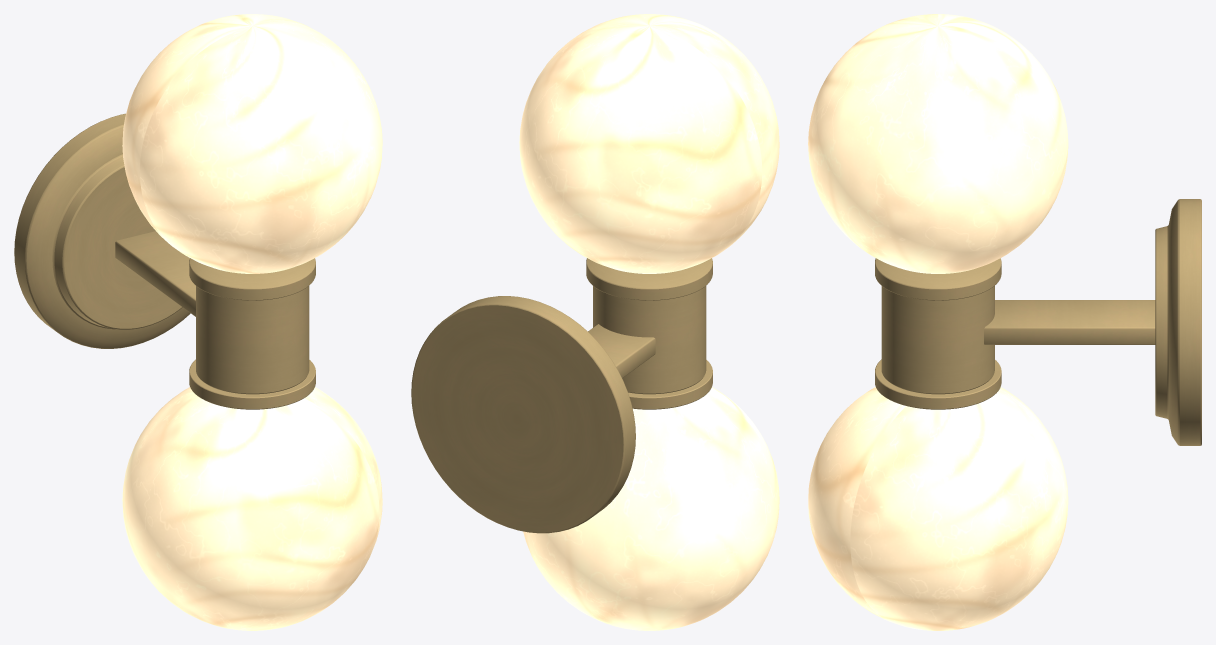
The model's file is marble-dual-globe-wall-sconce-polished-gold-nordic-light.glb.
The picture shows the model from 3 angles, left to right: view 1: azimuth 30°, elevation 25°; view 2: azimuth 150°, elevation 25°; view 3: azimuth 270°, elevation 25°; orthographic projection.
Visible parts, largest first — view 1: Globe_Top, Globe_Bottom, Backplate, Hub, Arm, HubRing_1, HubRing_-1; view 2: Globe_Top, Backplate, Globe_Bottom, Hub, HubRing_1, Arm, HubRing_-1; view 3: Globe_Top, Globe_Bottom, Backplate, Hub, Arm, HubRing_1, HubRing_-1.
Boxes of the visible parts, bbox=[...] form: Globe_Top: bbox=[122, 14, 382, 273]; Globe_Bottom: bbox=[122, 387, 382, 630]; Backplate: bbox=[14, 113, 190, 348]; Hub: bbox=[196, 286, 309, 394]; Arm: bbox=[115, 231, 195, 316]; HubRing_1: bbox=[189, 258, 315, 300]; HubRing_-1: bbox=[189, 359, 315, 409]; Globe_Top: bbox=[519, 14, 779, 273]; Backplate: bbox=[411, 296, 635, 533]; Globe_Bottom: bbox=[523, 387, 779, 630]; Hub: bbox=[593, 286, 706, 394]; HubRing_1: bbox=[586, 258, 712, 300]; Arm: bbox=[588, 324, 655, 378]; HubRing_-1: bbox=[628, 360, 712, 409]; Globe_Top: bbox=[808, 14, 1068, 273]; Globe_Bottom: bbox=[808, 387, 1068, 630]; Backplate: bbox=[1155, 199, 1201, 445]; Hub: bbox=[881, 286, 994, 394]; Arm: bbox=[984, 300, 1155, 344]; HubRing_1: bbox=[875, 258, 1001, 300]; HubRing_-1: bbox=[875, 359, 1001, 409].
Bounding box in the file's own units: 0.0991 × 0.2489 × 0.1499.
3 materials, 3 textured.
